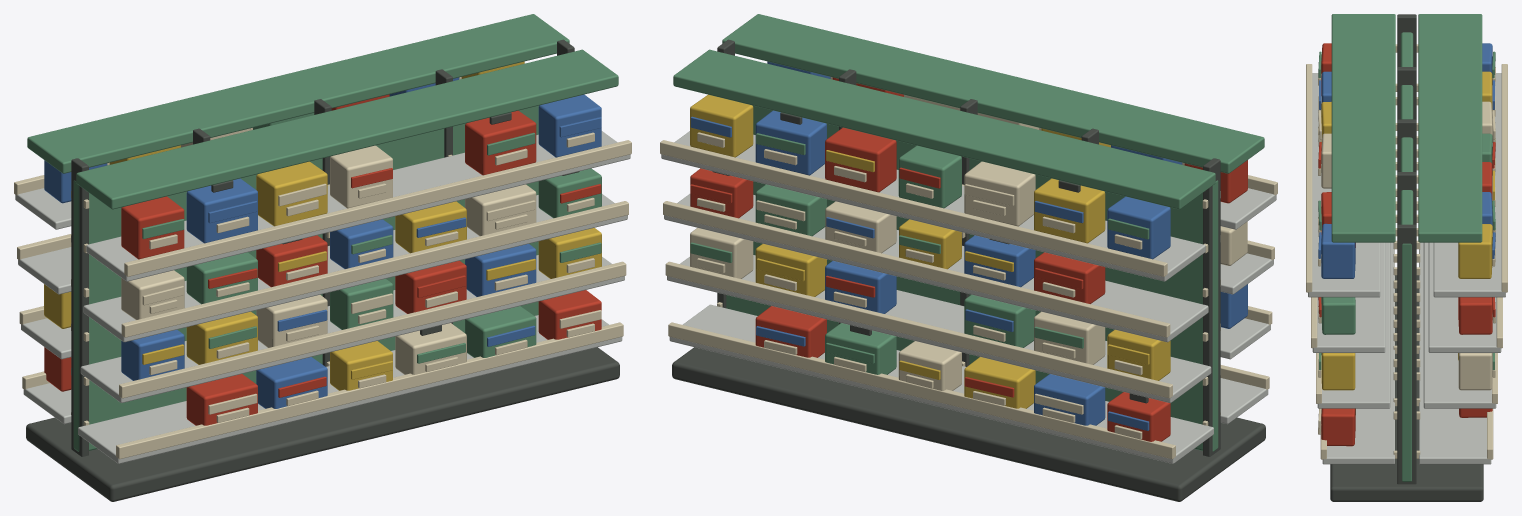
Rendered from miller_gondola_aisle.glb.
The picture shows the model from 3 angles, left to right: view 1: azimuth 30°, elevation 25°; view 2: azimuth 150°, elevation 25°; view 3: azimuth 270°, elevation 25°; orthographic projection. The views are drawn at different scales.
Parts seen in each view (by area): view 1: miller_gondola_aisle_miller_forest_enamel_pbr, miller_gondola_aisle_miller_aged_cream_enamel_pbr, miller_gondola_aisle_miller_galvanized_steel_pbr, miller_gondola_aisle_miller_blackened_steel_pbr, miller_gondola_aisle_miller_safety_red_enamel_pbr, miller_gondola_aisle_miller_paint_blue_enamel_pbr, miller_gondola_aisle_miller_safety_yellow_enamel_pbr; view 2: miller_gondola_aisle_miller_forest_enamel_pbr, miller_gondola_aisle_miller_aged_cream_enamel_pbr, miller_gondola_aisle_miller_galvanized_steel_pbr, miller_gondola_aisle_miller_blackened_steel_pbr, miller_gondola_aisle_miller_paint_blue_enamel_pbr, miller_gondola_aisle_miller_safety_yellow_enamel_pbr, miller_gondola_aisle_miller_safety_red_enamel_pbr; view 3: miller_gondola_aisle_miller_forest_enamel_pbr, miller_gondola_aisle_miller_galvanized_steel_pbr, miller_gondola_aisle_miller_blackened_steel_pbr, miller_gondola_aisle_miller_aged_cream_enamel_pbr, miller_gondola_aisle_miller_safety_red_enamel_pbr, miller_gondola_aisle_miller_safety_yellow_enamel_pbr, miller_gondola_aisle_miller_paint_blue_enamel_pbr.
Part boxes in pixels (bbox=[...]): miller_gondola_aisle_miller_forest_enamel_pbr: bbox=[27, 14, 618, 451]; miller_gondola_aisle_miller_aged_cream_enamel_pbr: bbox=[14, 77, 631, 459]; miller_gondola_aisle_miller_galvanized_steel_pbr: bbox=[15, 131, 630, 463]; miller_gondola_aisle_miller_blackened_steel_pbr: bbox=[26, 39, 619, 501]; miller_gondola_aisle_miller_safety_red_enamel_pbr: bbox=[44, 94, 601, 425]; miller_gondola_aisle_miller_paint_blue_enamel_pbr: bbox=[44, 77, 601, 408]; miller_gondola_aisle_miller_safety_yellow_enamel_pbr: bbox=[44, 61, 601, 390]; miller_gondola_aisle_miller_forest_enamel_pbr: bbox=[673, 14, 1264, 451]; miller_gondola_aisle_miller_aged_cream_enamel_pbr: bbox=[660, 77, 1277, 459]; miller_gondola_aisle_miller_galvanized_steel_pbr: bbox=[661, 131, 1276, 463]; miller_gondola_aisle_miller_blackened_steel_pbr: bbox=[672, 39, 1265, 501]; miller_gondola_aisle_miller_paint_blue_enamel_pbr: bbox=[690, 61, 1247, 430]; miller_gondola_aisle_miller_safety_yellow_enamel_pbr: bbox=[690, 94, 1170, 408]; miller_gondola_aisle_miller_safety_red_enamel_pbr: bbox=[690, 77, 1247, 441]; miller_gondola_aisle_miller_forest_enamel_pbr: bbox=[1318, 14, 1495, 481]; miller_gondola_aisle_miller_galvanized_steel_pbr: bbox=[1308, 73, 1505, 464]; miller_gondola_aisle_miller_blackened_steel_pbr: bbox=[1330, 14, 1483, 501]; miller_gondola_aisle_miller_aged_cream_enamel_pbr: bbox=[1306, 44, 1507, 459]; miller_gondola_aisle_miller_safety_red_enamel_pbr: bbox=[1318, 43, 1495, 446]; miller_gondola_aisle_miller_safety_yellow_enamel_pbr: bbox=[1321, 71, 1494, 390]; miller_gondola_aisle_miller_paint_blue_enamel_pbr: bbox=[1318, 43, 1495, 354].
Bounding box in the file's own units: 3.74 × 2.15 × 1.45.
